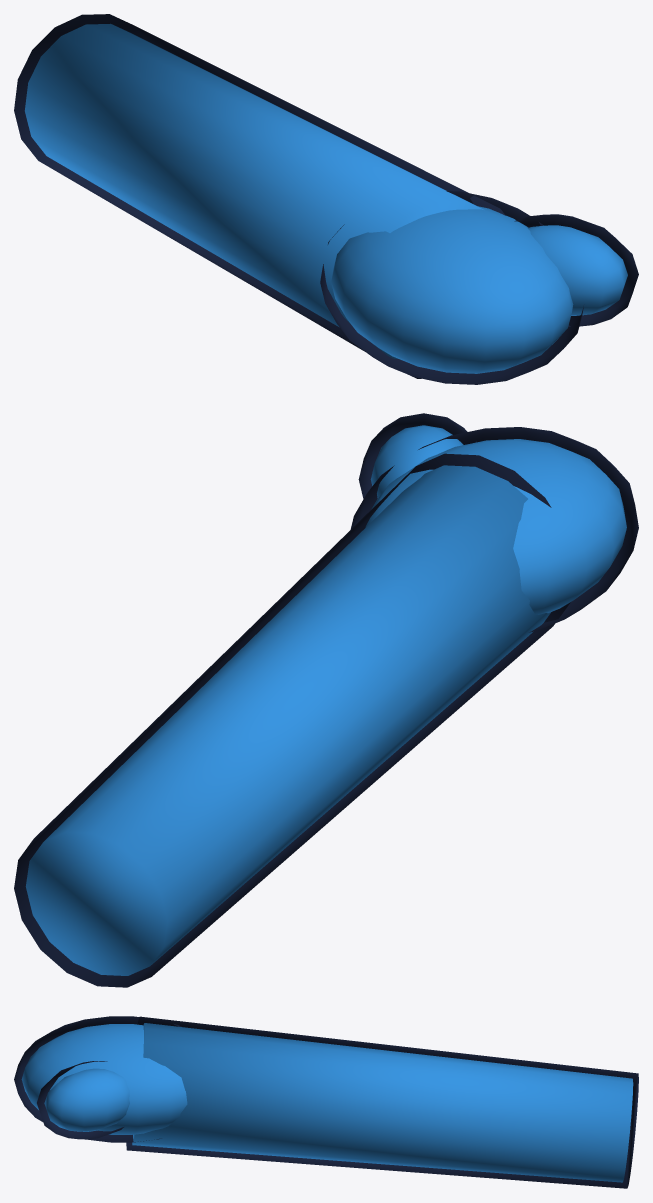
Rendered from RmHandL.fbx.
3 renders of one model, top to bottom at view 1: azimuth 30°, elevation 25°; view 2: azimuth 150°, elevation 25°; view 3: azimuth 270°, elevation 25°, orthographic. The views are drawn at different scales.
Parts seen in each view (by area): view 1: Mitten; view 2: Mitten; view 3: Mitten.
Boxes of the visible parts, bbox=[...] form: Mitten: bbox=[14, 14, 638, 384]; Mitten: bbox=[14, 413, 638, 987]; Mitten: bbox=[14, 1016, 638, 1188].
Bounding box in the file's own units: 0.1309 × 0.1152 × 0.4064.
